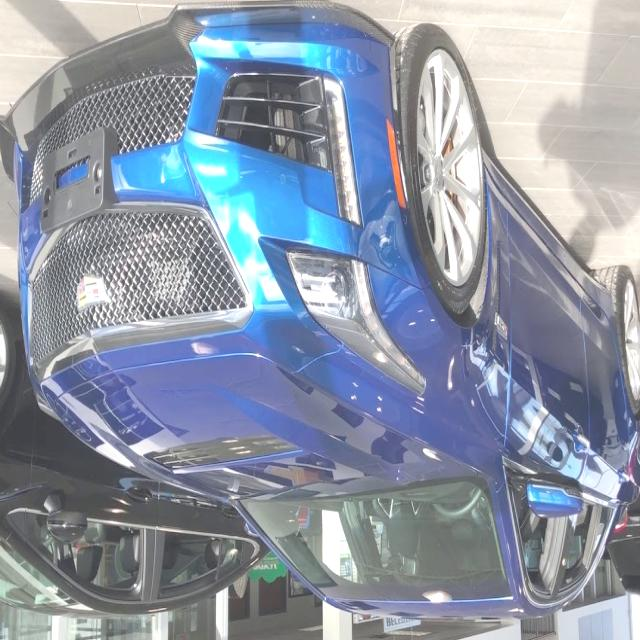blue: (19, 20, 640, 635)
